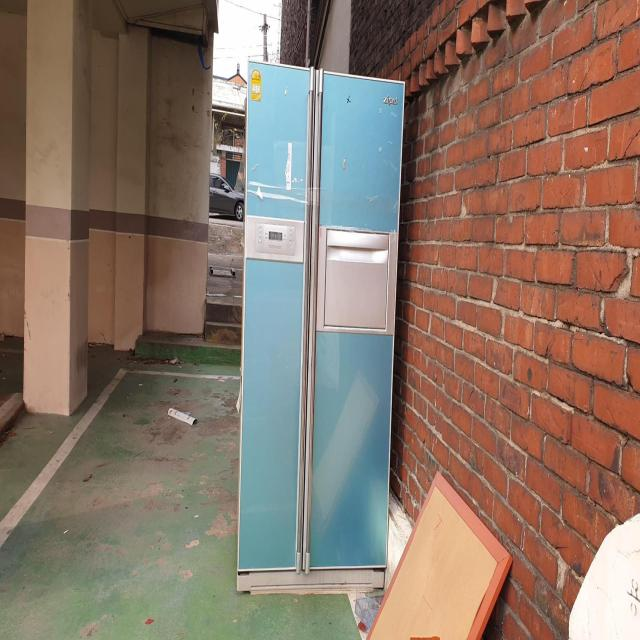refrigerator: (236, 59, 406, 598)
